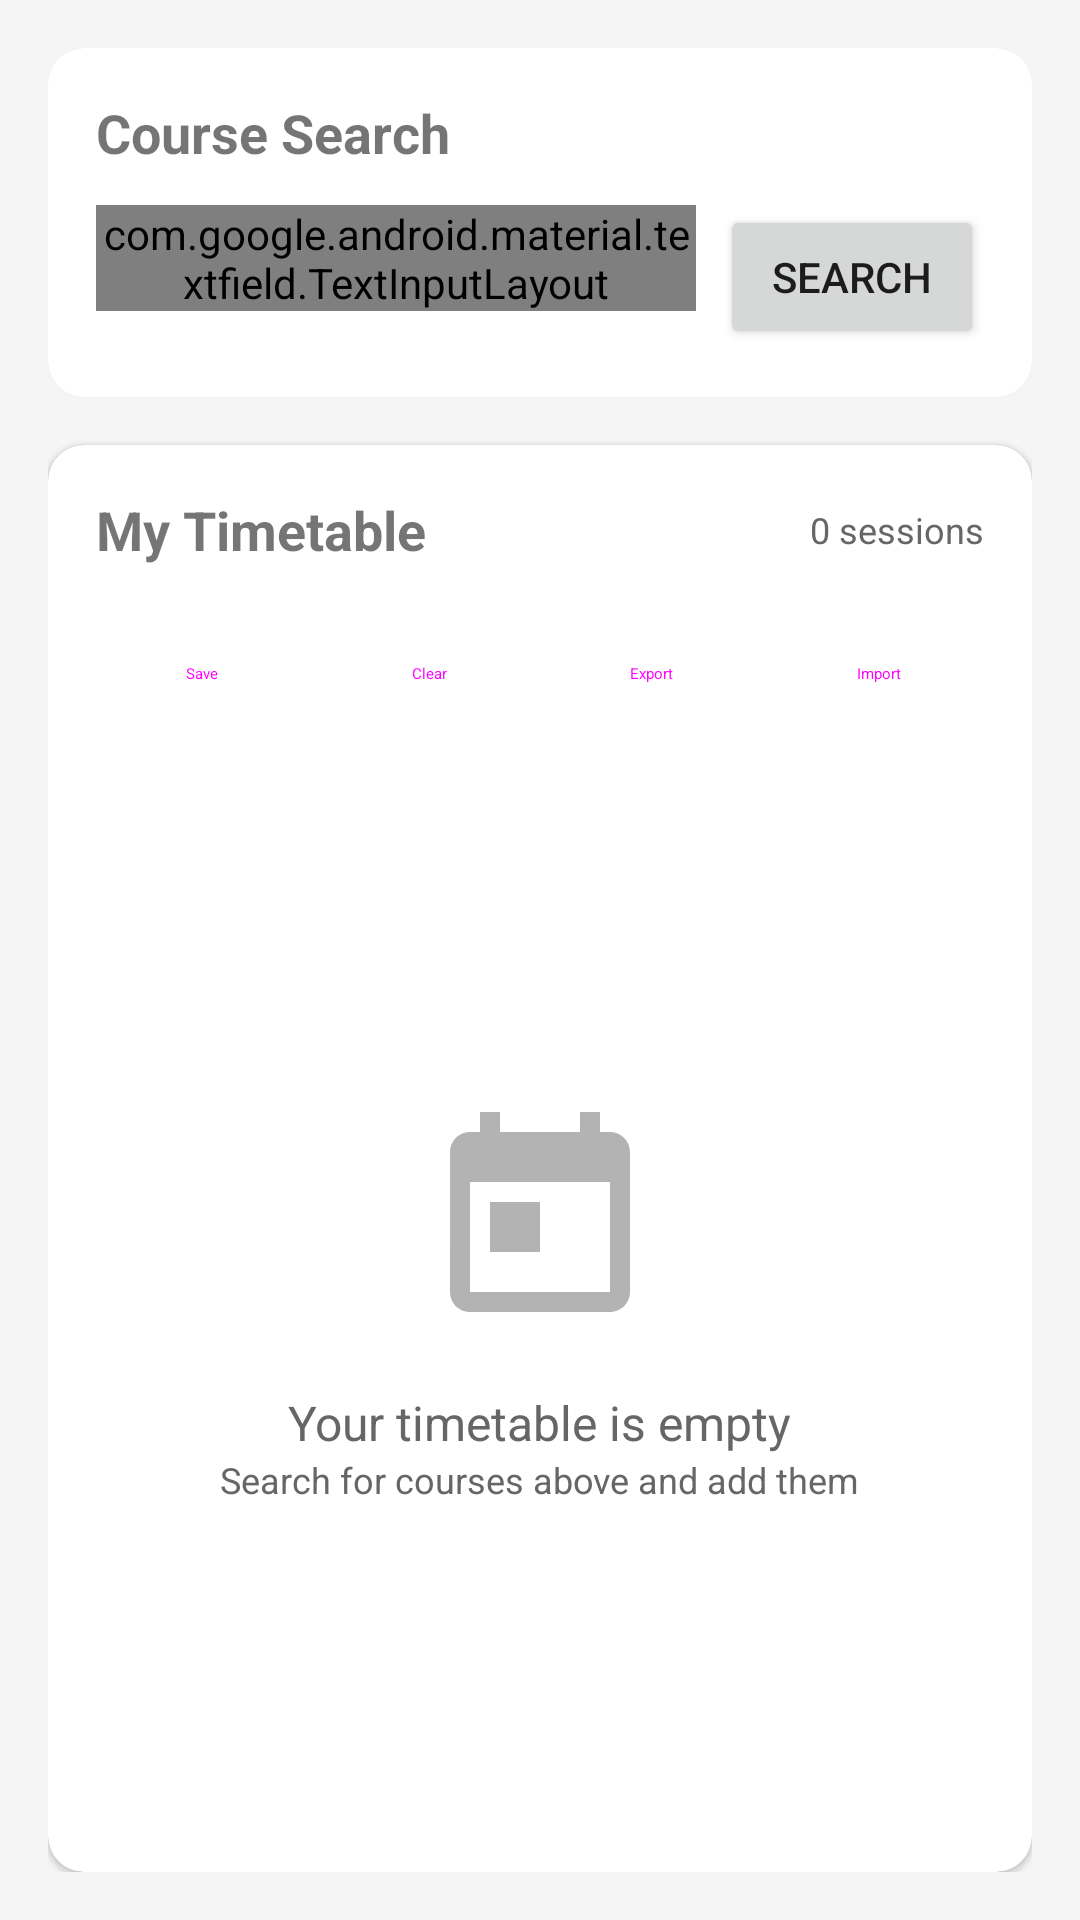

Where icons sit on this 1080 x 1920 app screen, as (x1, y1, x2, y2):
calendar: (450, 1112, 630, 1312)
